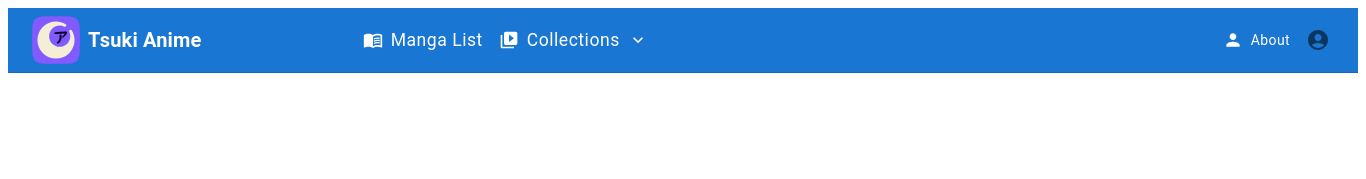
Test case: library navigation › dismisses an open collection menu with Escape
Click the button "Collections": click(573, 40) [495, 19, 652, 61]
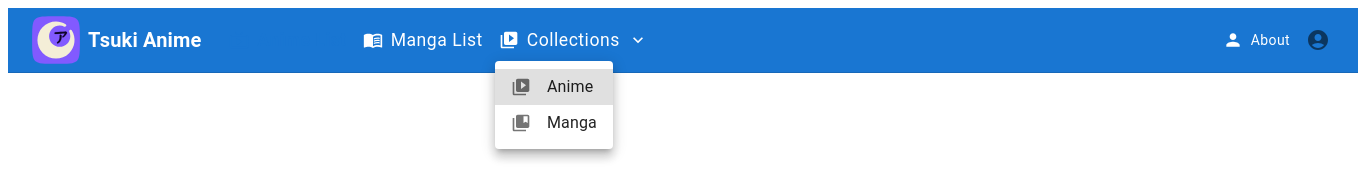
Press Escape in the menu, box [495, 61, 613, 149]
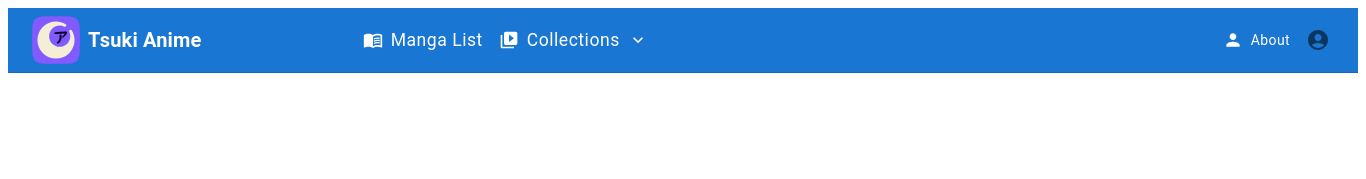
Now the menu is gone
